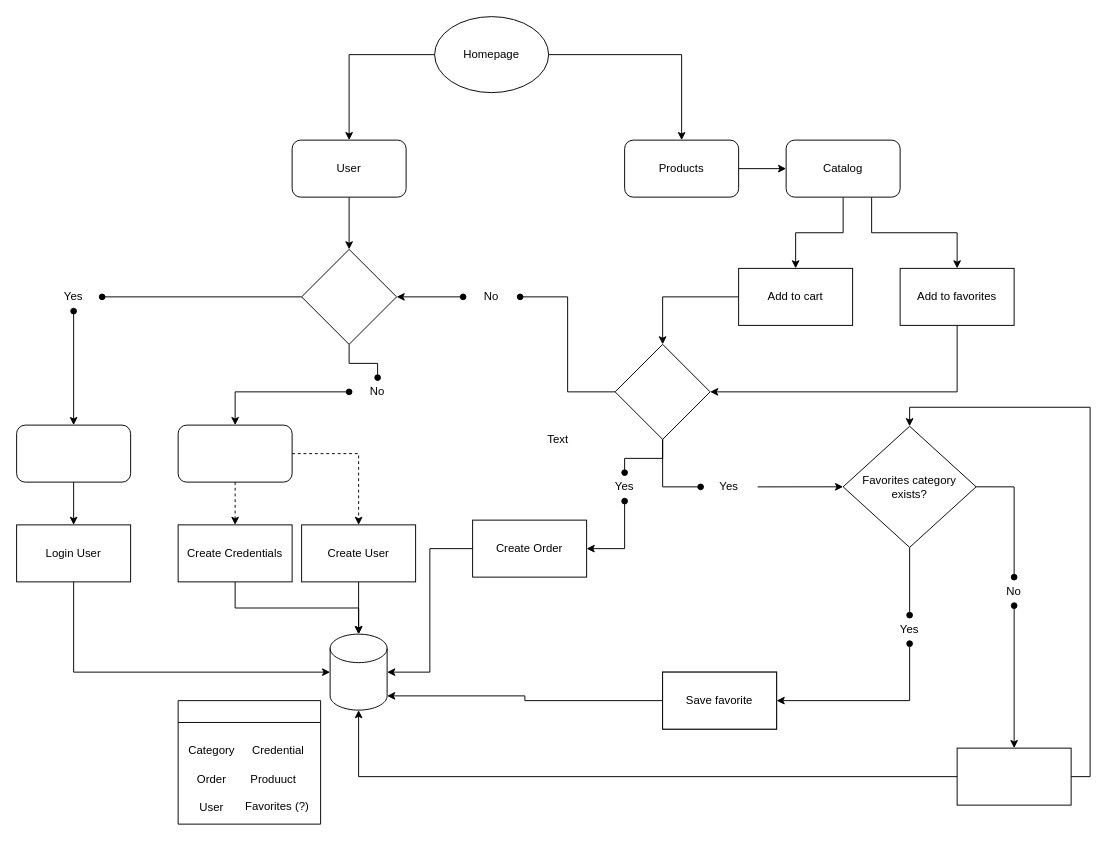
This 1114x841 diagram has some shape labels left out. Here are the shapes that lost their labels. From the top down, the box of each, then its label:
(301, 248, 397, 344): Is registered?
(614, 343, 710, 439): Is loged in?
(16, 424, 131, 482): Login Form
(177, 424, 292, 482): Register
(329, 633, 387, 710): DB
(177, 700, 321, 824): Entities
(956, 747, 1071, 805): Create 'favorites' category
